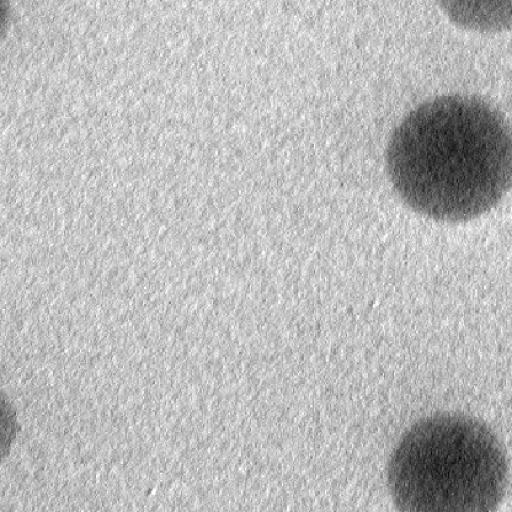Nanoparticles: (385, 92, 511, 220), (389, 414, 503, 512), (440, 1, 507, 35), (1, 391, 22, 463)
